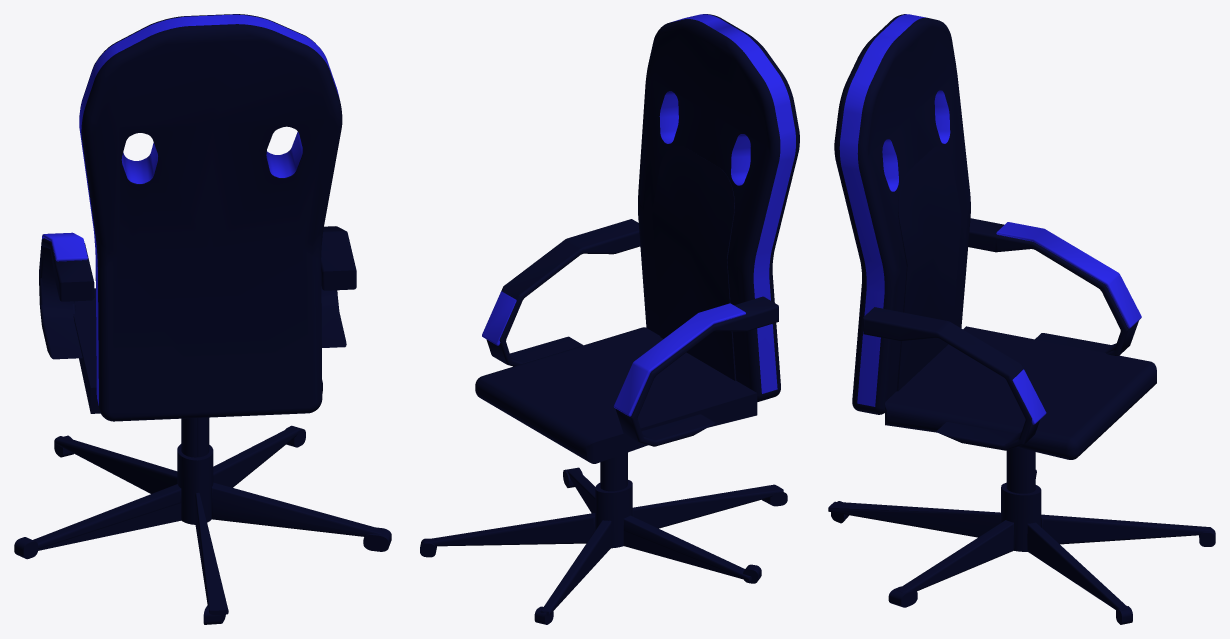
File: chair-BEKKWSbO.glb
3 renders of one model, left to right at view 1: azimuth 30°, elevation 25°; view 2: azimuth 150°, elevation 25°; view 3: azimuth 270°, elevation 25°, orthographic. The views are drawn at different scales.
Parts seen in each view (by area): view 1: StudyShelf_161; view 2: StudyShelf_161; view 3: StudyShelf_161.
Part boxes in pixels (<box>): StudyShelf_161: <box>14,14,391,624</box>; StudyShelf_161: <box>420,14,799,624</box>; StudyShelf_161: <box>828,14,1215,624</box>.
Size of the model in its own units: 172 by 275 by 193.
